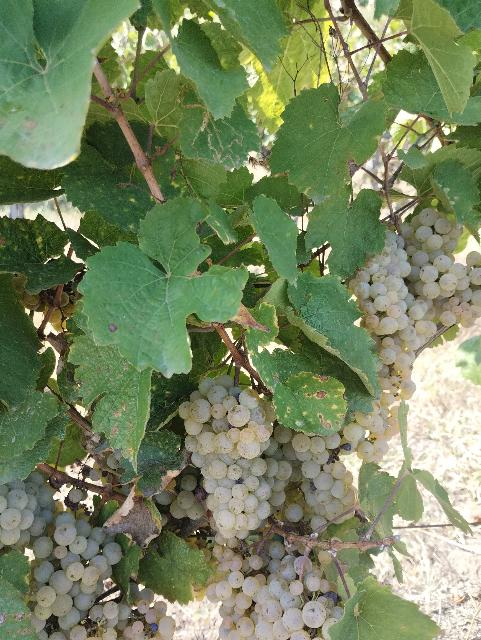grapes: (179, 374, 276, 548), (30, 511, 122, 640), (354, 230, 424, 370), (292, 422, 365, 532), (255, 555, 344, 640), (400, 208, 481, 300), (206, 545, 262, 640)
